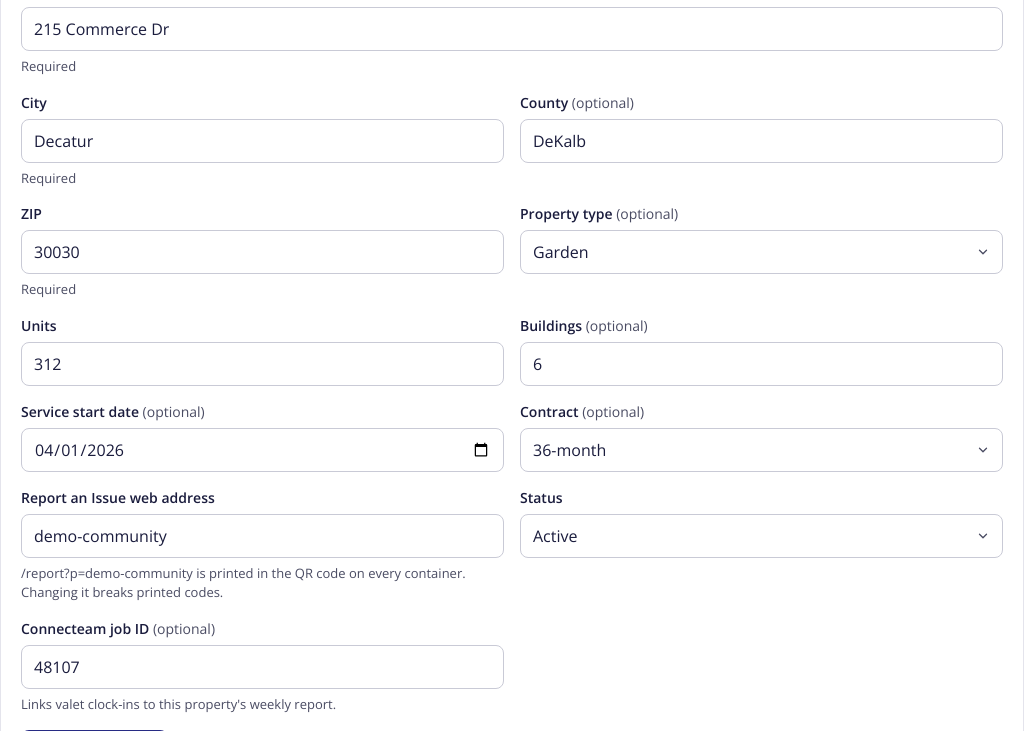
PropertyDetailPage › saves the details from Settings
(page scrolled)
Replace the text in the number field labelled "Units" with "320": (262, 364) x1=21 y1=342 x2=504 y2=386
(page scrolled)
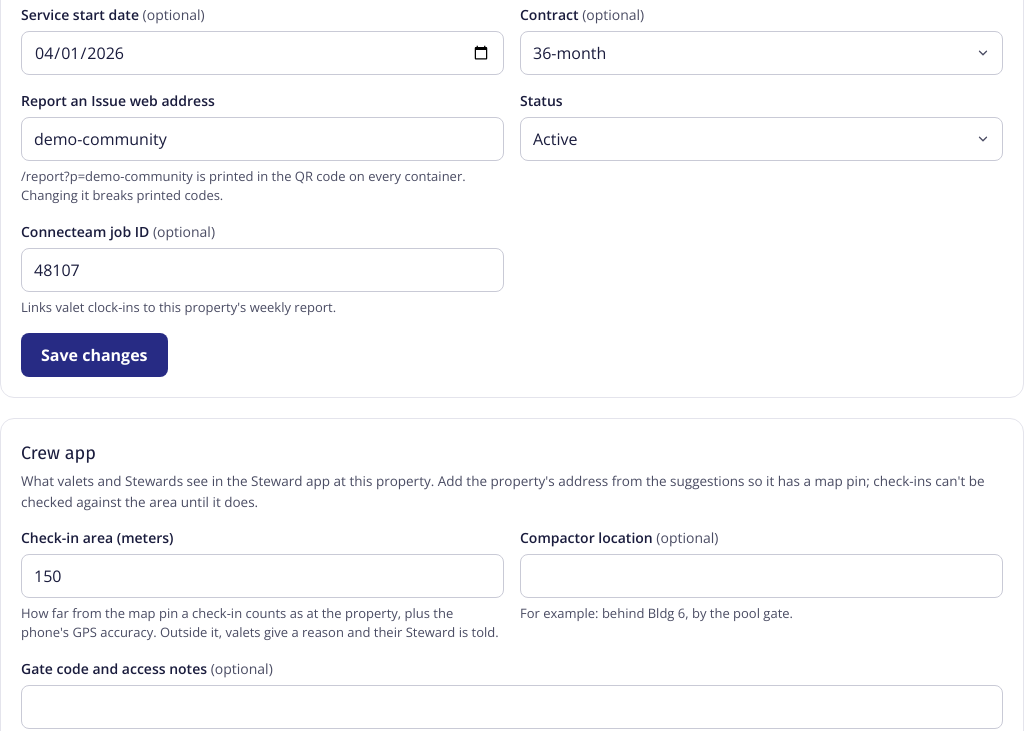
Click the button "Save changes": (94, 355) x1=21 y1=333 x2=168 y2=377
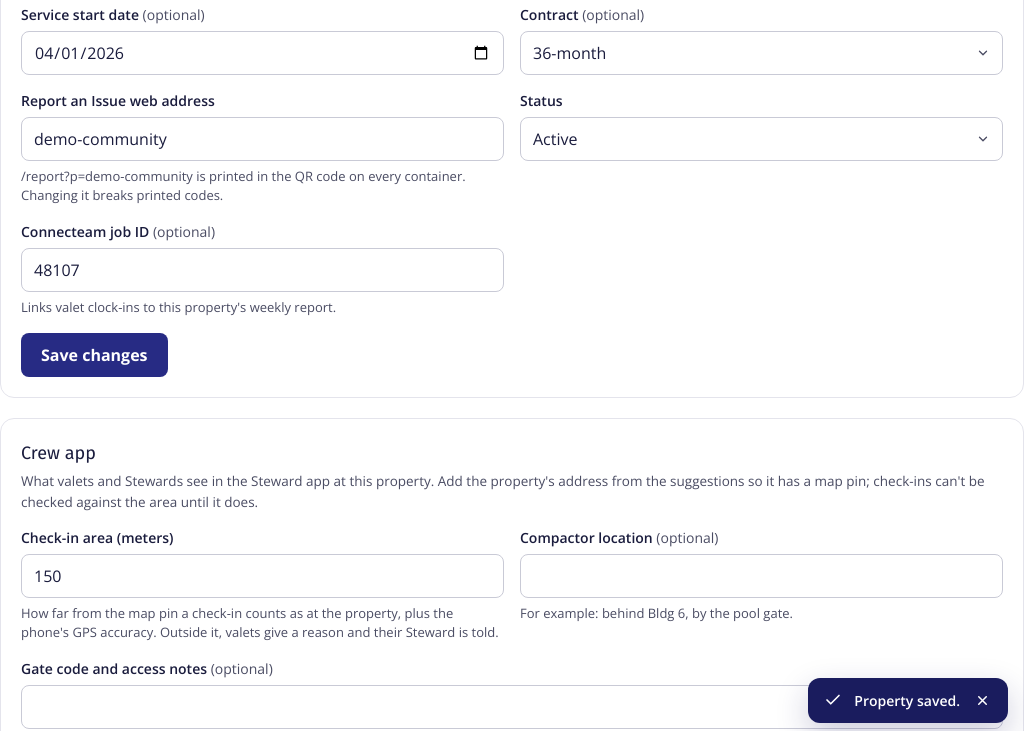
Expected: the text "Property saved." is shown, x1=854 y1=690 x2=960 y2=711
